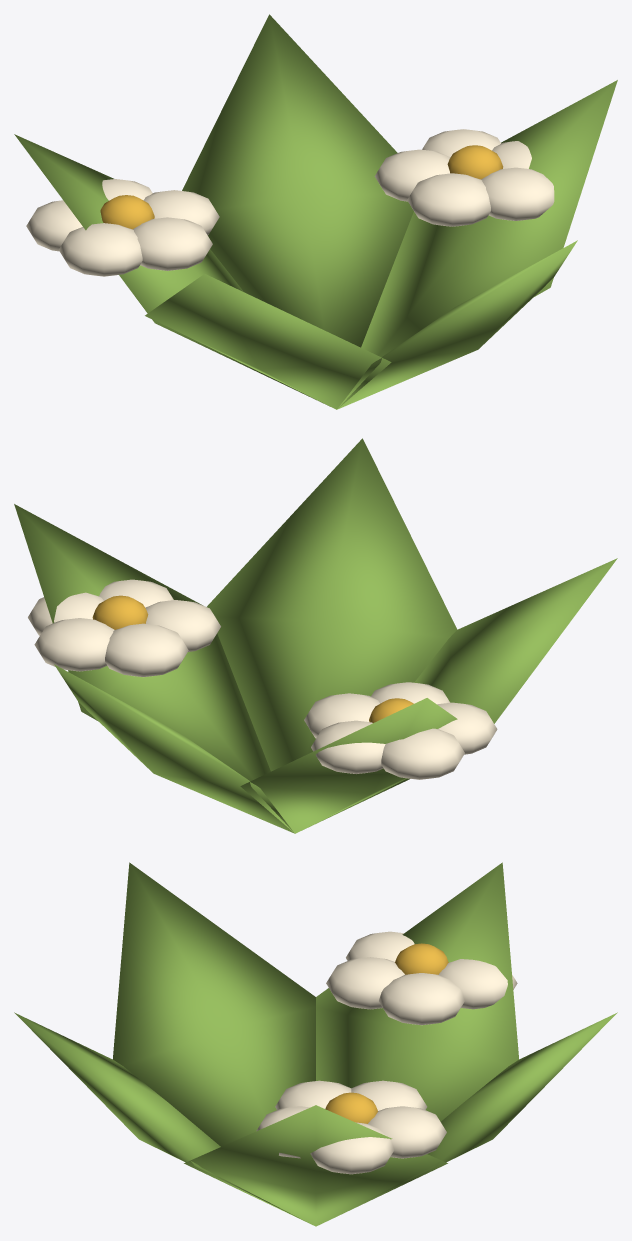
The model's file is crop_6_stage_2.fbx.
3 views of the same model, one above another, from view 1: azimuth 30°, elevation 25°; view 2: azimuth 150°, elevation 25°; view 3: azimuth 270°, elevation 25° (orthographic). The views are drawn at different scales.
Visible parts, largest first — view 1: crop_6_stage_2; view 2: crop_6_stage_2; view 3: crop_6_stage_2.
Boxes of the visible parts, x1=… form: crop_6_stage_2: x1=14, y1=14, x2=617, y2=409; crop_6_stage_2: x1=14, y1=438, x2=617, y2=833; crop_6_stage_2: x1=14, y1=862, x2=617, y2=1226.
Bounding box in the file's own units: 0.4692 × 0.2275 × 0.4868.
1 material, 1 textured.
